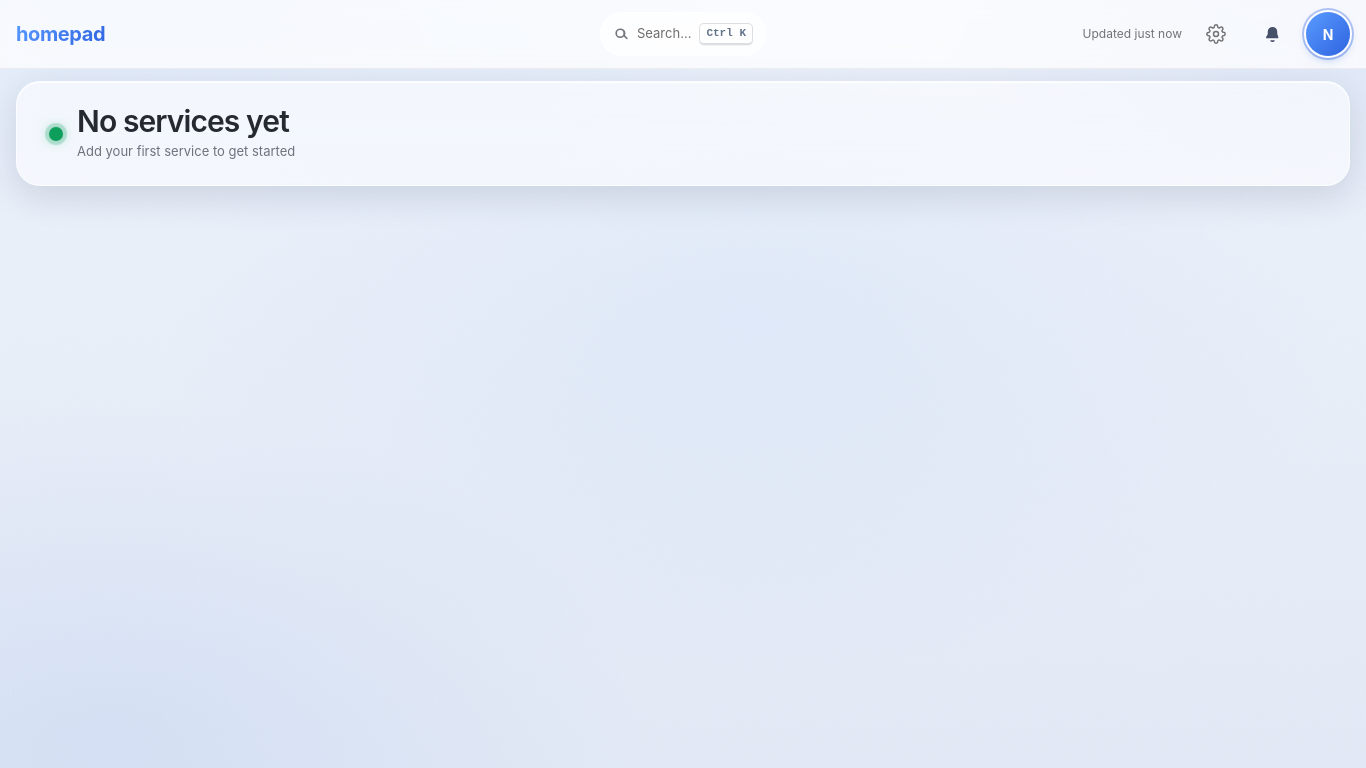
it: auth gate › logs out back to the login form
This screenshot has width=1366, height=768.
Note: v7 §6: Log out now lives inside the avatar menu.
Click the button with test id "user-menu-trigger": (1328, 34) [1306, 12, 1350, 56]
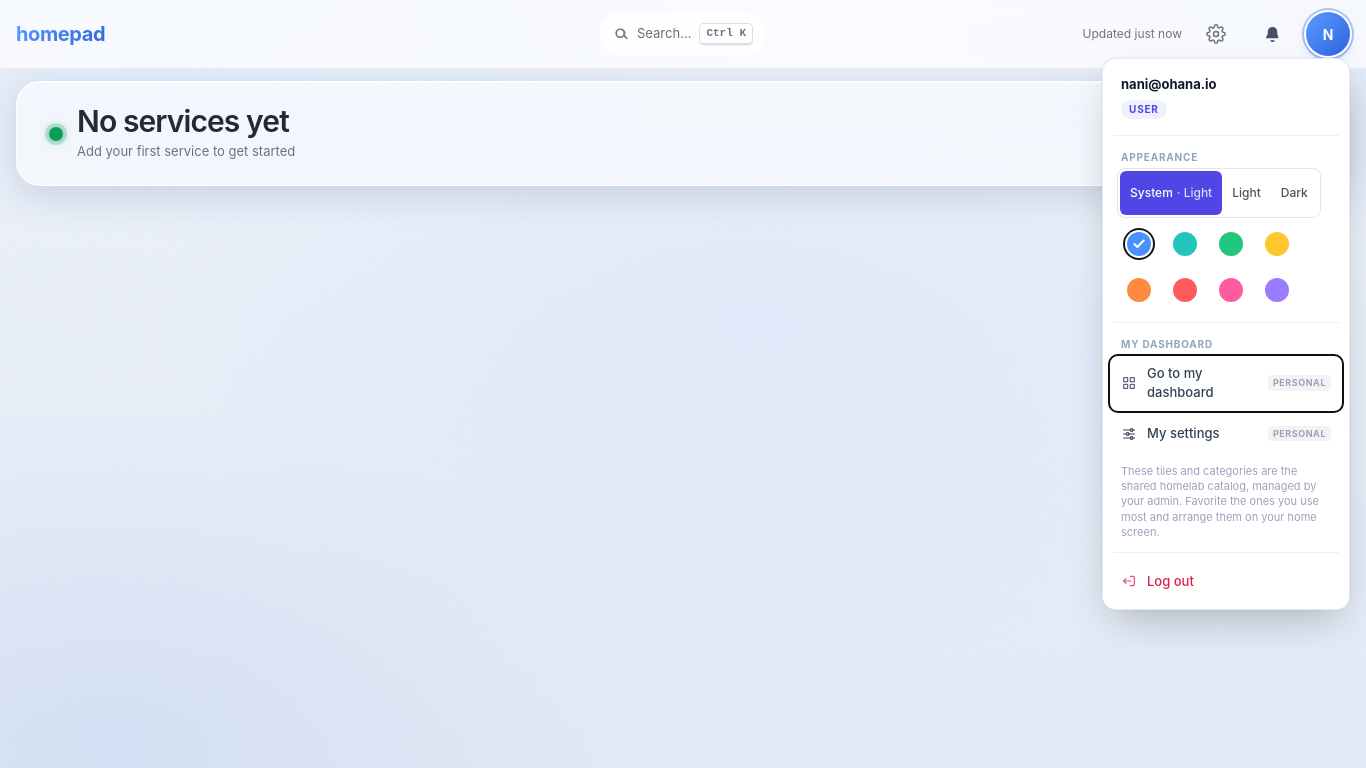
Click the menu item with test id "menu-logout": (1226, 582) [1109, 560, 1343, 604]
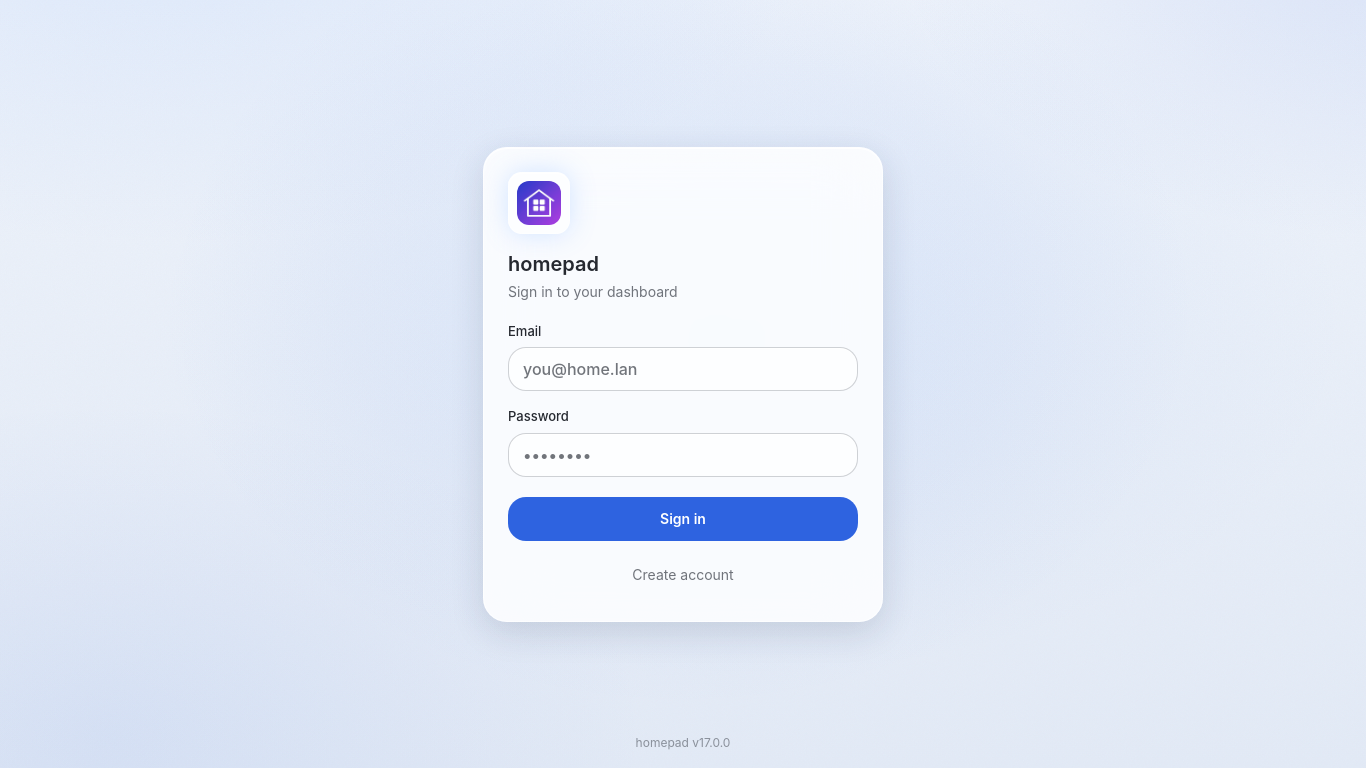
Now the button "Sign in" is shown, box [508, 496, 858, 540]
